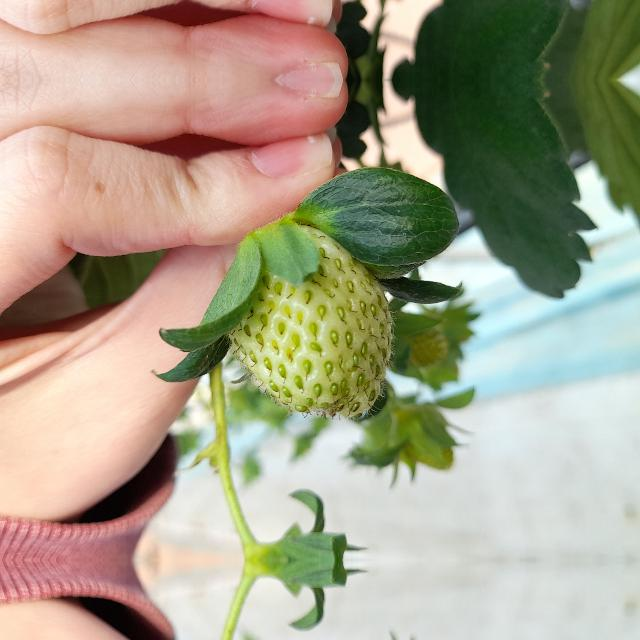Health_25: (228, 223, 392, 419)
